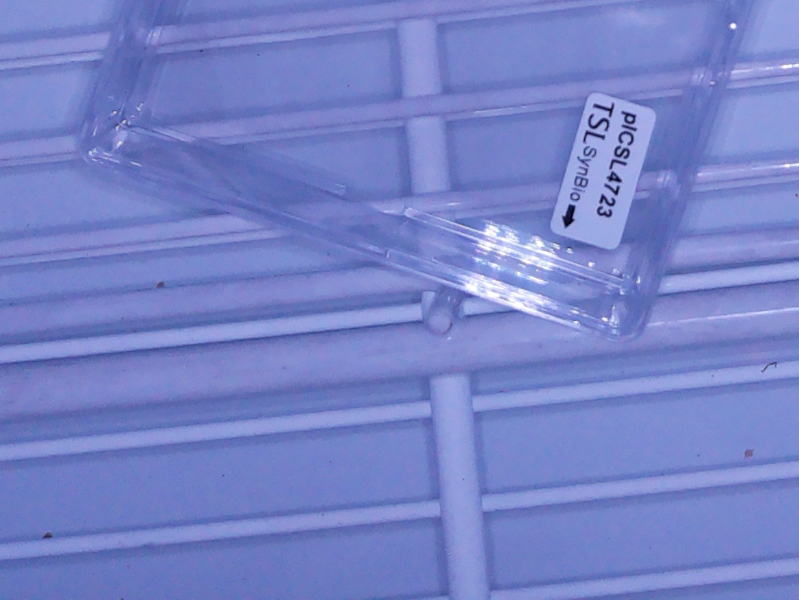plate: (72, 1, 767, 346)
